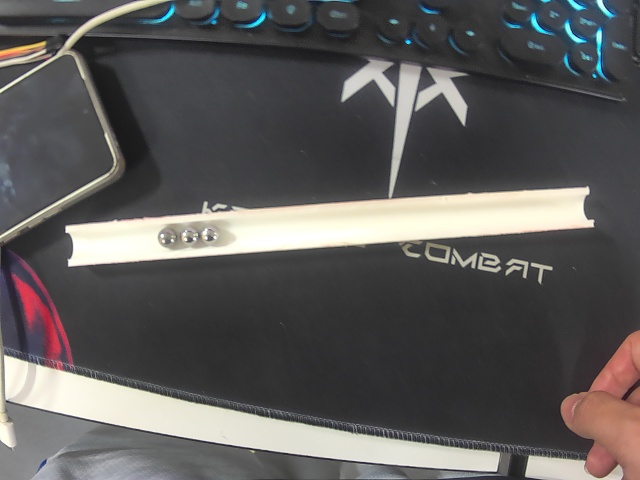steelball: (157, 228, 177, 247), (200, 226, 220, 245), (180, 227, 199, 246)
